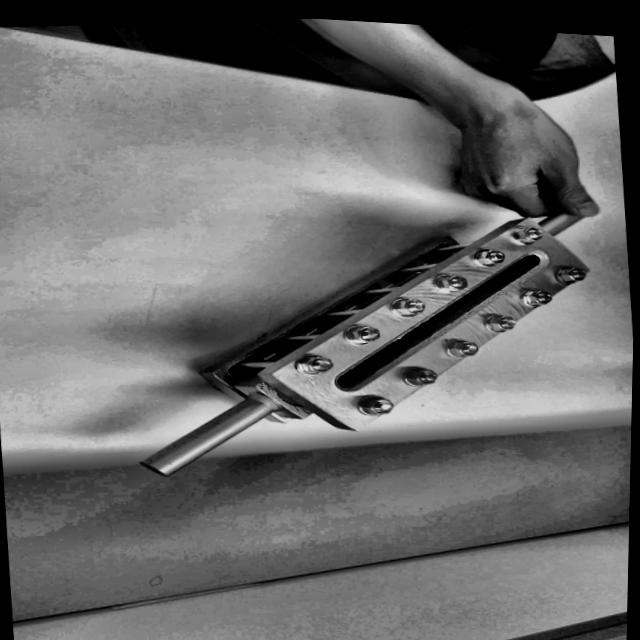ShuiWeiQi_12: (108, 180, 623, 501)
